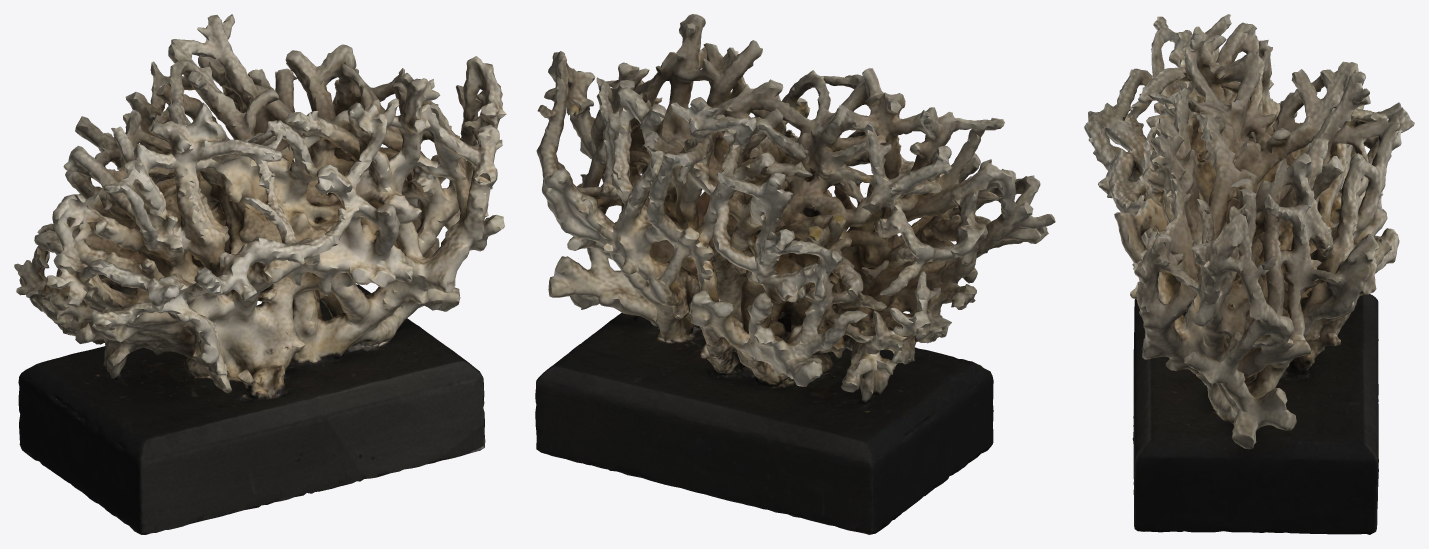
The model's file is merulina_rigida.glb.
3 renders of one model, left to right at view 1: azimuth 30°, elevation 25°; view 2: azimuth 150°, elevation 25°; view 3: azimuth 270°, elevation 25°, orthographic.
Visible parts, largest first — view 1: Object_4, Object_5; view 2: Object_4, Object_5; view 3: Object_4, Object_5.
Part boxes in pixels (x1=…): Object_4: x1=14, y1=14, x2=506, y2=534; Object_5: x1=17, y1=58, x2=501, y2=518; Object_4: x1=535, y1=14, x2=1055, y2=534; Object_5: x1=536, y1=54, x2=1003, y2=534; Object_4: x1=1084, y1=14, x2=1414, y2=534; Object_5: x1=1092, y1=26, x2=1398, y2=532.
Bounding box in the file's own units: 0.2846 × 0.2219 × 0.1708.
1 material, 1 textured.
